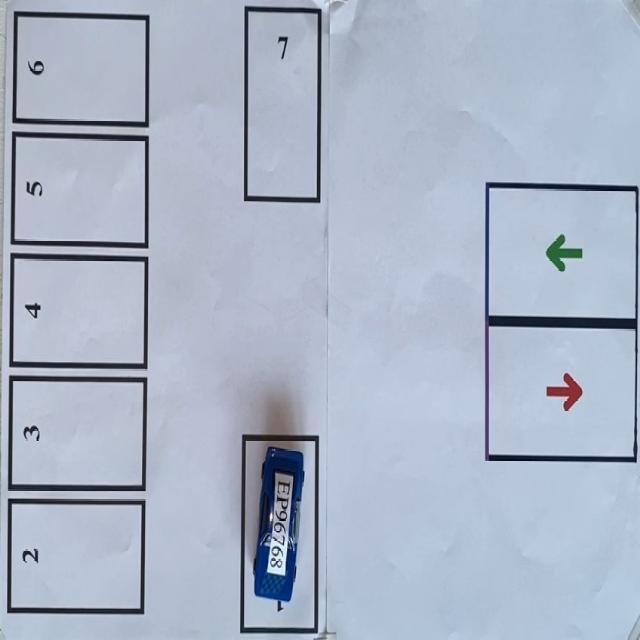car: (254, 447, 304, 610)
